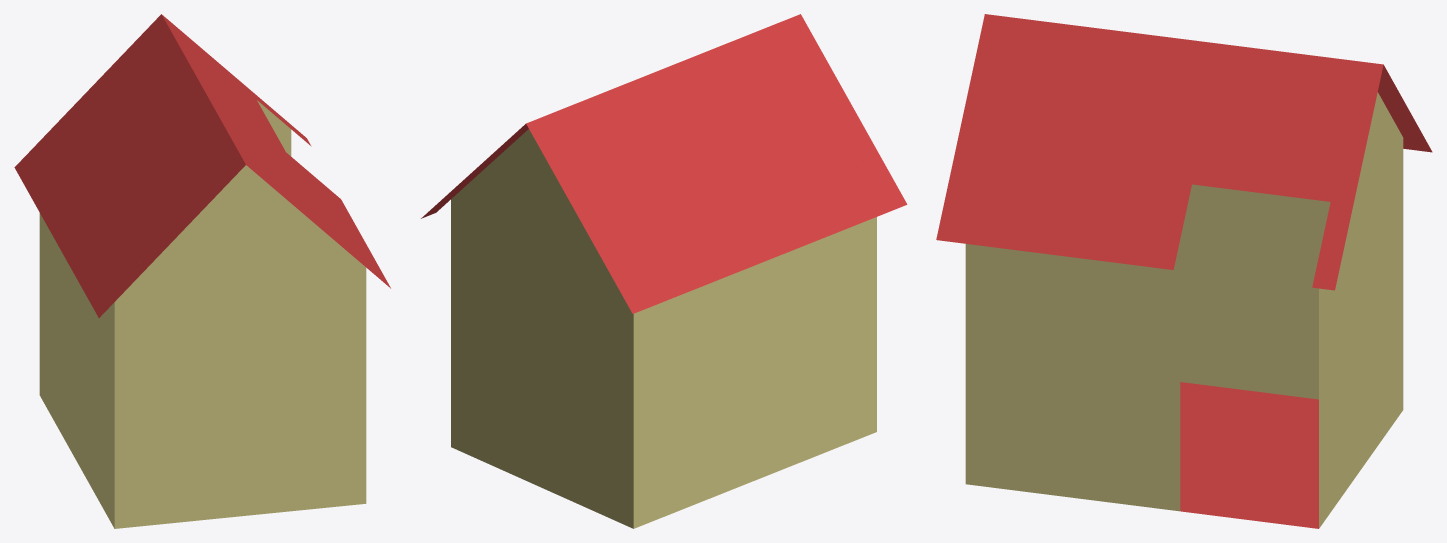
The picture shows the model from 3 angles, left to right: view 1: azimuth 30°, elevation 25°; view 2: azimuth 150°, elevation 25°; view 3: azimuth 270°, elevation 25°; orthographic projection. The views are drawn at different scales.
Size of the model in its own units: 14.06 by 15.65 by 14.2.
